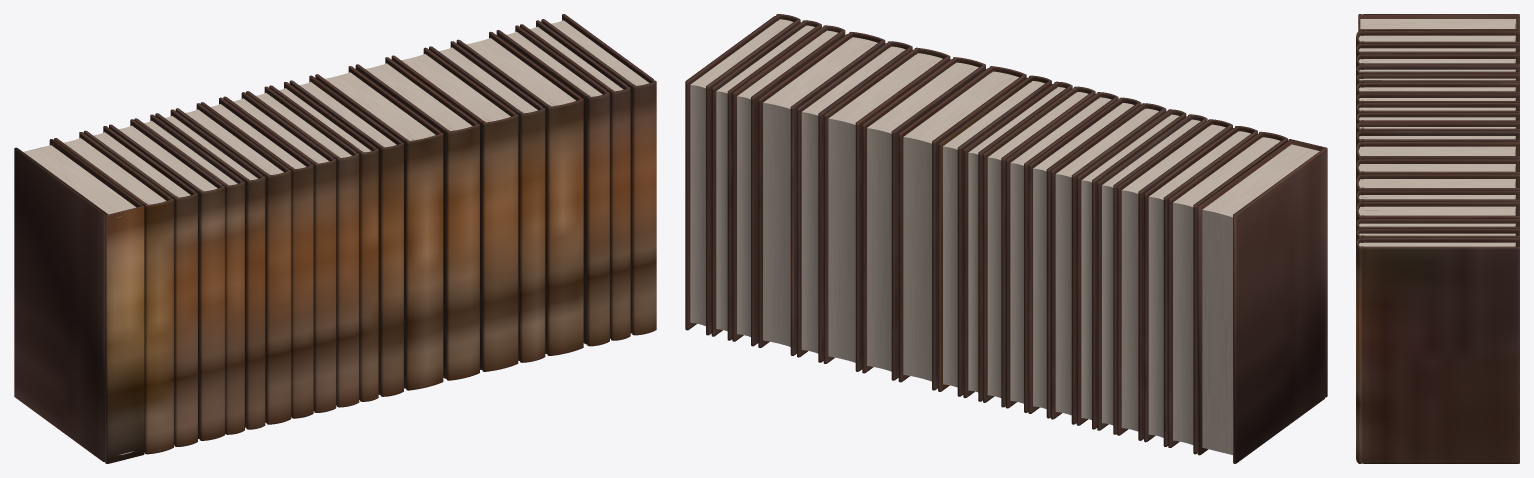
3 views of the same model, side by side, from view 1: azimuth 30°, elevation 25°; view 2: azimuth 150°, elevation 25°; view 3: azimuth 270°, elevation 25° (orthographic). The views are drawn at different scales.
Parts seen in each view (by area): view 1: book_encyclopedia_set_01_book01, book_encyclopedia_set_01_book13, book_encyclopedia_set_01_book15, book_encyclopedia_set_01_book17, book_encyclopedia_set_01_book14, book_encyclopedia_set_01_book02, book_encyclopedia_set_01_book16, book_encyclopedia_set_01_book04, book_encyclopedia_set_01_book18, book_encyclopedia_set_01_book20, book_encyclopedia_set_01_book07, book_encyclopedia_set_01_book12 (+8 smaller); view 2: book_encyclopedia_set_01_book01, book_encyclopedia_set_01_book13, book_encyclopedia_set_01_book15, book_encyclopedia_set_01_book17, book_encyclopedia_set_01_book14, book_encyclopedia_set_01_book02, book_encyclopedia_set_01_book04, book_encyclopedia_set_01_book16, book_encyclopedia_set_01_book18, book_encyclopedia_set_01_book20, book_encyclopedia_set_01_book07, book_encyclopedia_set_01_book12 (+8 smaller); view 3: book_encyclopedia_set_01_book20, book_encyclopedia_set_01_book13, book_encyclopedia_set_01_book17, book_encyclopedia_set_01_book01, book_encyclopedia_set_01_book15, book_encyclopedia_set_01_book14, book_encyclopedia_set_01_book02, book_encyclopedia_set_01_book16, book_encyclopedia_set_01_book03, book_encyclopedia_set_01_book12, book_encyclopedia_set_01_book07, book_encyclopedia_set_01_book04 (+8 smaller).
Boxes of the visible parts, <box> form: book_encyclopedia_set_01_book01: <box>14,139,144,463</box>; book_encyclopedia_set_01_book13: <box>315,66,443,390</box>; book_encyclopedia_set_01_book15: <box>391,47,518,371</box>; book_encyclopedia_set_01_book17: <box>456,31,583,355</box>; book_encyclopedia_set_01_book14: <box>355,57,479,380</box>; book_encyclopedia_set_01_book02: <box>54,132,173,454</box>; book_encyclopedia_set_01_book16: <box>429,41,545,362</box>; book_encyclopedia_set_01_book04: <box>109,119,224,440</box>; book_encyclopedia_set_01_book18: <box>496,25,609,346</box>; book_encyclopedia_set_01_book20: <box>541,14,656,335</box>; book_encyclopedia_set_01_book07: <box>175,103,291,424</box>; book_encyclopedia_set_01_book12: <box>289,75,403,396</box>; book_encyclopedia_set_01_book01: <box>1197,139,1327,463</box>; book_encyclopedia_set_01_book13: <box>898,66,1026,390</box>; book_encyclopedia_set_01_book15: <box>823,47,950,371</box>; book_encyclopedia_set_01_book17: <box>758,32,885,355</box>; book_encyclopedia_set_01_book14: <box>862,57,985,380</box>; book_encyclopedia_set_01_book02: <box>1168,131,1287,454</box>; book_encyclopedia_set_01_book04: <box>1117,119,1232,440</box>; book_encyclopedia_set_01_book16: <box>797,41,912,362</box>; book_encyclopedia_set_01_book18: <box>732,25,845,346</box>; book_encyclopedia_set_01_book20: <box>685,14,800,335</box>; book_encyclopedia_set_01_book07: <box>1051,103,1166,424</box>; book_encyclopedia_set_01_book12: <box>938,75,1051,396</box>; book_encyclopedia_set_01_book20: <box>1356,238,1519,463</box>; book_encyclopedia_set_01_book13: <box>1356,142,1519,164</box>; book_encyclopedia_set_01_book17: <box>1356,202,1519,222</box>; book_encyclopedia_set_01_book01: <box>1358,14,1519,31</box>; book_encyclopedia_set_01_book15: <box>1356,174,1519,194</box>; book_encyclopedia_set_01_book14: <box>1356,159,1519,180</box>; book_encyclopedia_set_01_book02: <box>1356,30,1519,47</box>; book_encyclopedia_set_01_book16: <box>1356,190,1519,208</box>; book_encyclopedia_set_01_book03: <box>1356,43,1519,58</box>; book_encyclopedia_set_01_book12: <box>1356,131,1519,148</box>; book_encyclopedia_set_01_book07: <box>1356,82,1519,96</box>; book_encyclopedia_set_01_book04: <box>1356,54,1519,68</box>.
Bounding box in the file's own units: 0.5513 × 0.2374 × 0.1631.
Materials: 2 (2 with a texture image).
